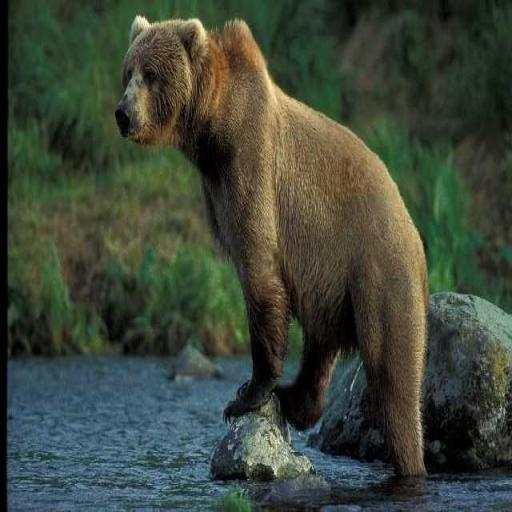Bear: (114, 12, 430, 479)
